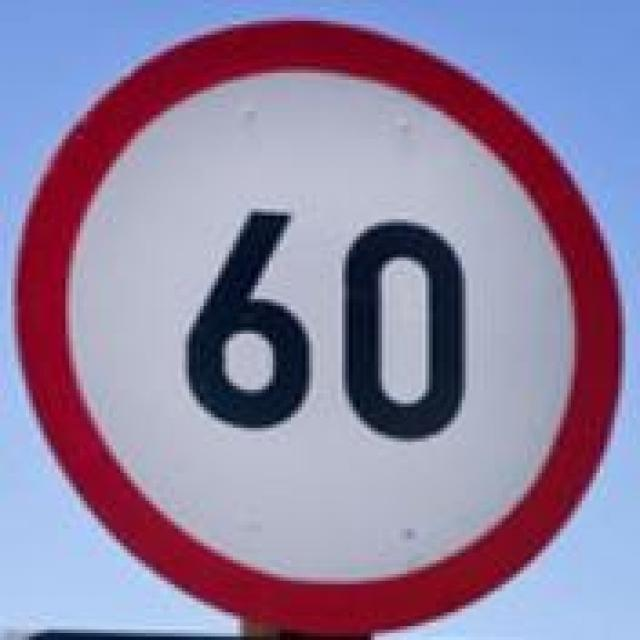speed limit 60: (17, 18, 625, 632)
